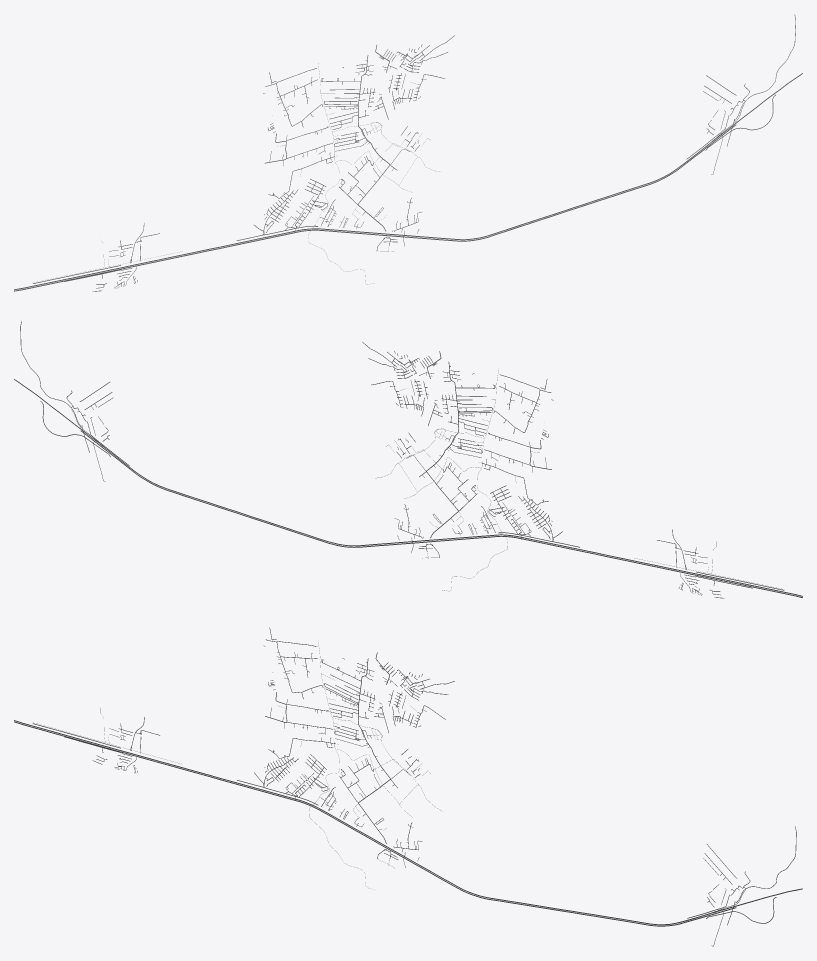
The model's file is roads_1_1.obj.
3 renders of one model, top to bottom at view 1: azimuth 30°, elevation 25°; view 2: azimuth 150°, elevation 25°; view 3: azimuth 330°, elevation 25°, orthographic.
Size of the model in its own units: 9801 by 2830 by 13.28.
Materials: 5 (5 with a texture image).
